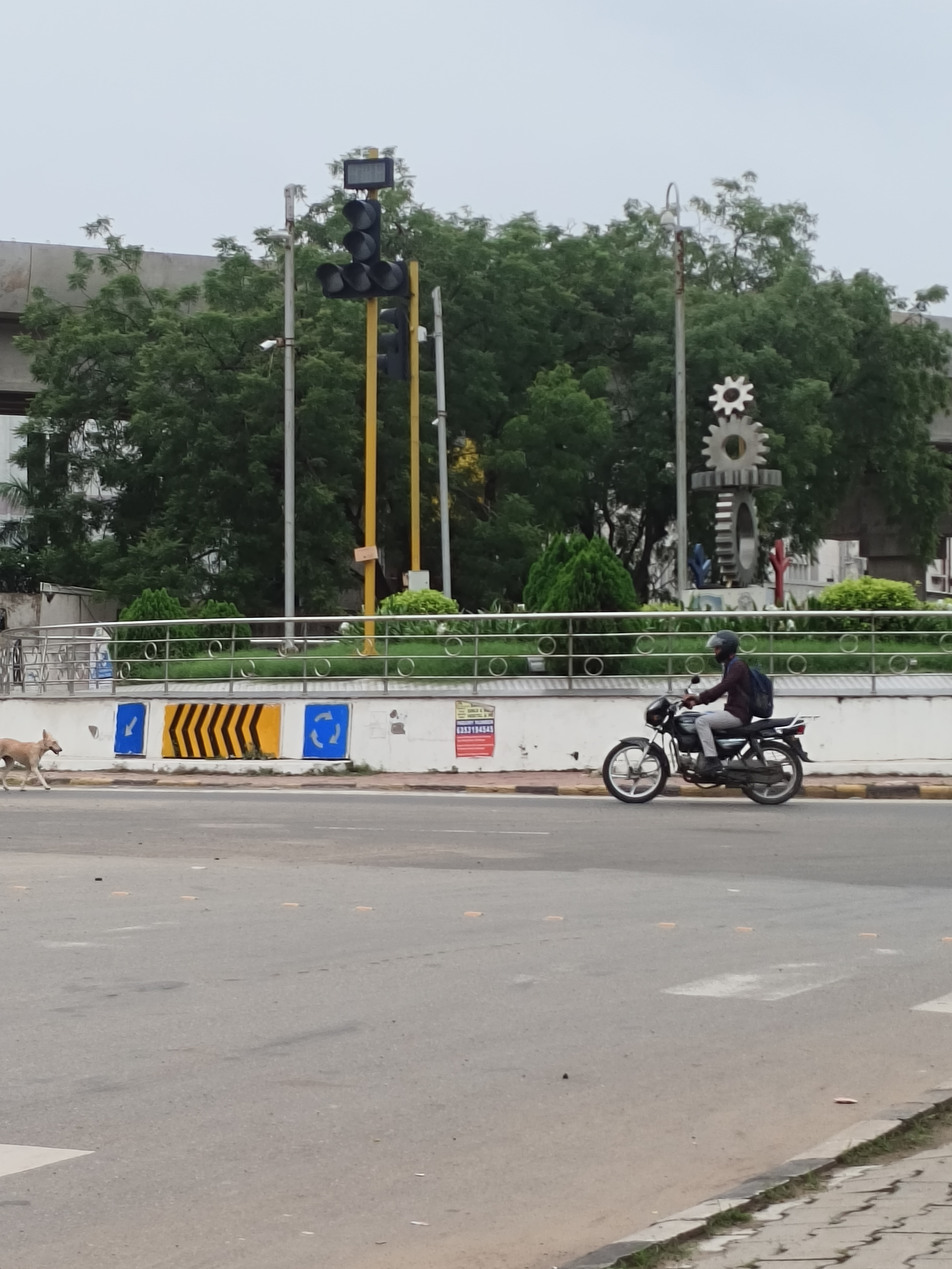BikeWithRider: (591, 624, 823, 814)
Helmet: (702, 626, 745, 667)
